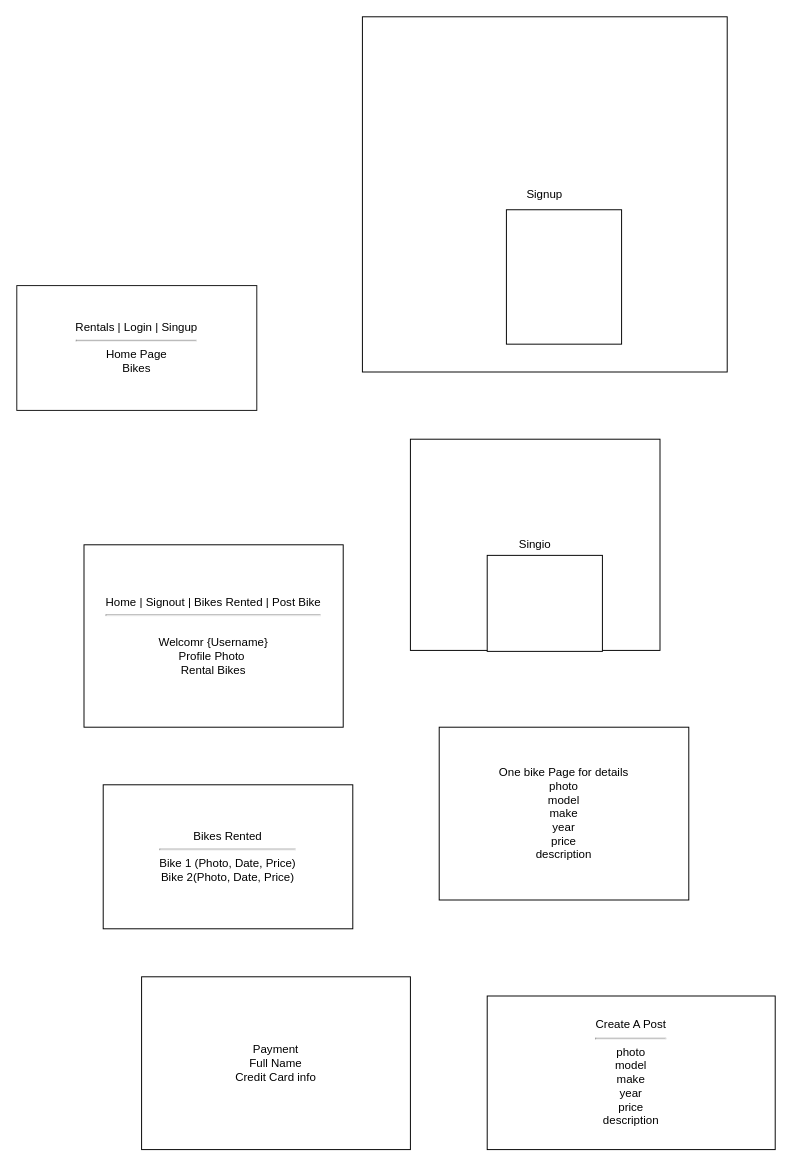
This 792x1166 diagram has some shape labels left out. The centre of each missing label's shape, as x and y in pixels:
"Email Password" belongs at point (544, 602).
"First Name Last Name age username Email Password" belongs at point (563, 276).
